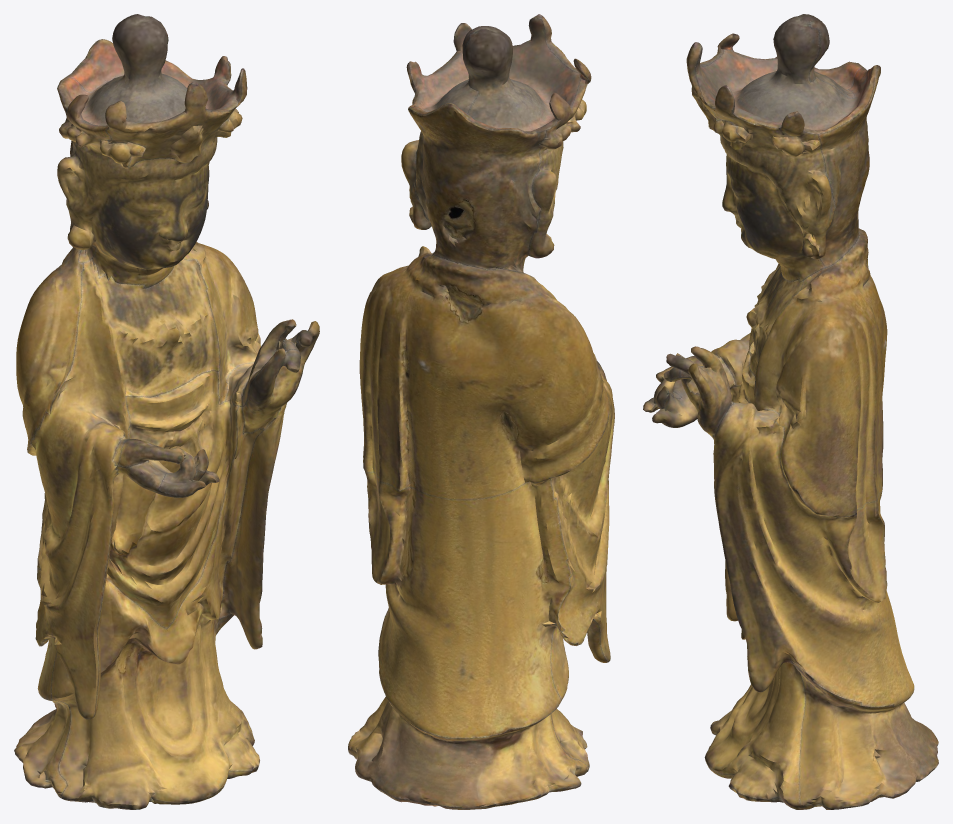
The model's file is duksu-2116-standing.glb.
The picture shows the model from 3 angles, left to right: view 1: azimuth 30°, elevation 25°; view 2: azimuth 150°, elevation 25°; view 3: azimuth 270°, elevation 25°; orthographic projection. The views are drawn at different scales.
Parts seen in each view (by area): view 1: duk002116_001_30000; view 2: duk002116_001_30000; view 3: duk002116_001_30000.
Boxes of the visible parts, x1,y1,x2,y2 form: duk002116_001_30000: (14, 14, 319, 809); duk002116_001_30000: (348, 14, 614, 809); duk002116_001_30000: (643, 14, 938, 809).
Size of the model in its own units: 0.334 by 1 by 0.3612.
Materials: 1 (1 with a texture image).
